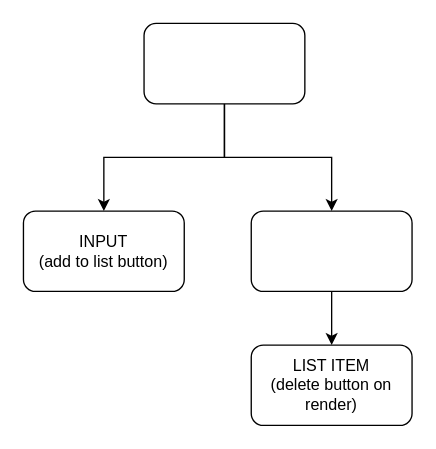
Image size: 436x449. Some labels were removed from this diagram. The box of each missing label's shape, as (x1, y1, x2, y2) in pixels:
APP: (143, 22, 305, 104)
LIST render list items as <ul>: (250, 210, 412, 291)
